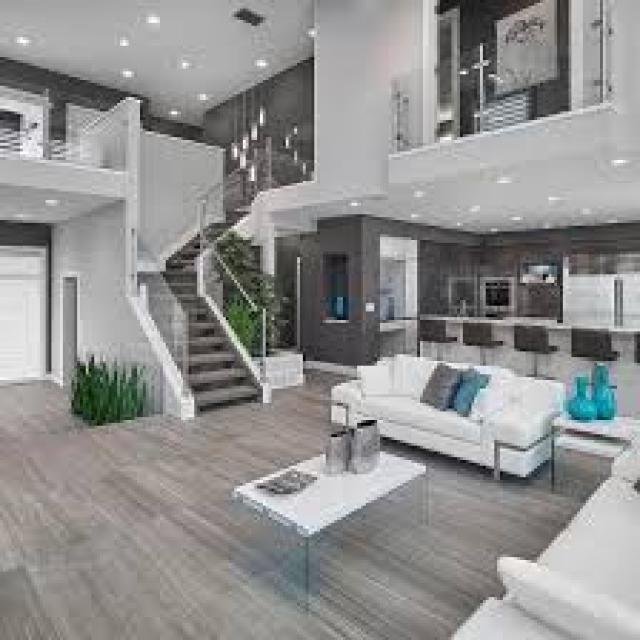Chair: (510, 322, 558, 376), (570, 324, 615, 379), (457, 314, 503, 364), (414, 305, 454, 354)
Sofa: (463, 416, 640, 640), (332, 358, 561, 492)
Table: (224, 424, 448, 586), (545, 405, 629, 479)
